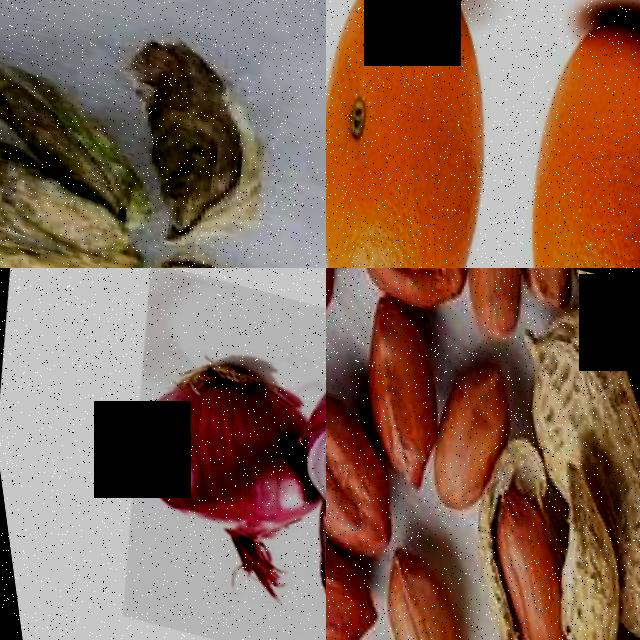onion: (95, 339, 318, 557), (273, 331, 326, 537)
orange: (326, 0, 541, 268), (454, 0, 640, 268)
oysters: (103, 30, 292, 256), (0, 110, 129, 268)
peanuts: (492, 300, 640, 519), (334, 297, 459, 493), (402, 344, 517, 526), (457, 481, 583, 640), (346, 538, 488, 640), (326, 416, 402, 562), (340, 268, 473, 318), (326, 523, 378, 640)
